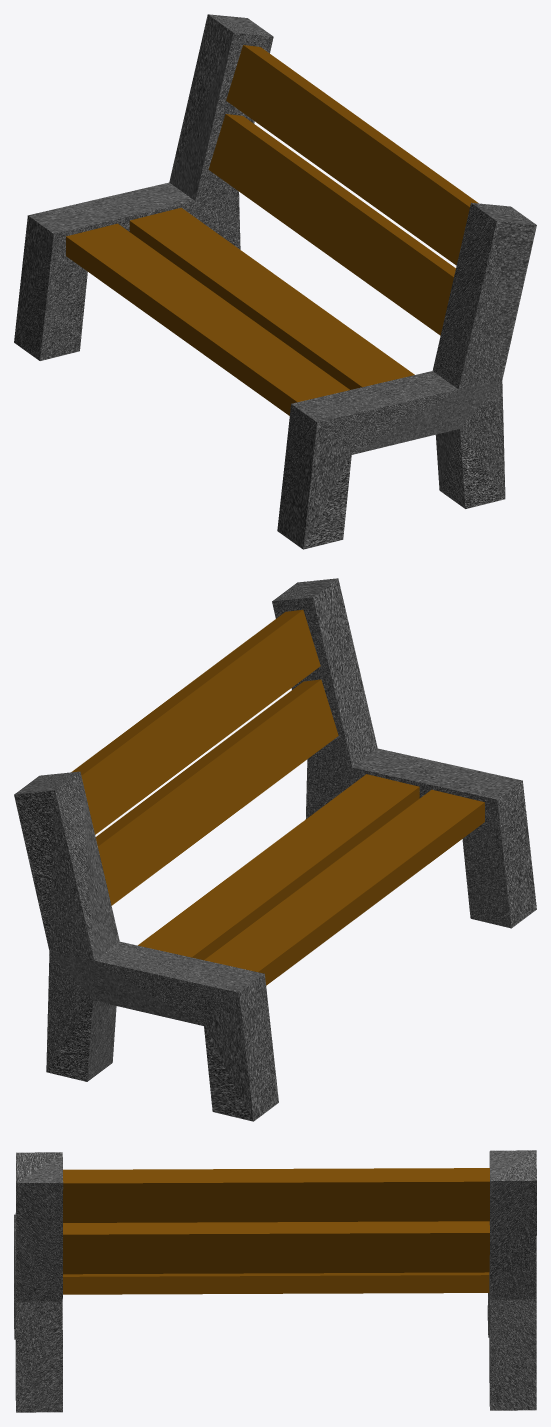
File: park_bench.dae
3 views of the same model, one above another, from view 1: azimuth 30°, elevation 25°; view 2: azimuth 150°, elevation 25°; view 3: azimuth 270°, elevation 25° (orthographic). The views are drawn at different scales.
Parts seen in each view (by area): view 1: Plane.008; view 2: Plane.008; view 3: Plane.008.
Boxes of the visible parts, left/top/right/bottom form: Plane.008: left=14, top=14, right=536, bottom=549; Plane.008: left=14, top=578, right=536, bottom=1121; Plane.008: left=14, top=1150, right=536, bottom=1412.
Size of the model in its own units: 0.8665 by 1.79 by 0.9663.
Materials: 2 (1 with a texture image).
